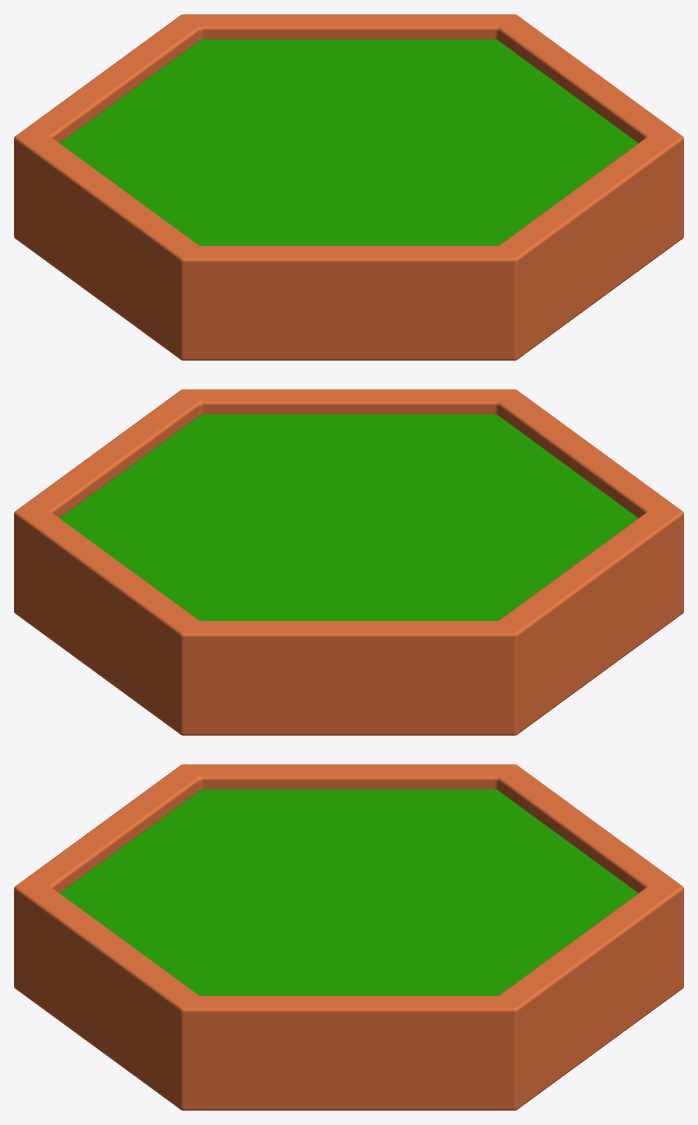
File: Blank.fbx
The picture shows the model from 3 angles, top to bottom: view 1: azimuth 30°, elevation 25°; view 2: azimuth 150°, elevation 25°; view 3: azimuth 270°, elevation 25°; orthographic projection.
Parts seen in each view (by area): view 1: Circle; view 2: Circle; view 3: Circle.
Part boxes in pixels (x1,y1,x2,y2): Circle: [14, 14, 683, 360]; Circle: [14, 389, 683, 735]; Circle: [14, 764, 683, 1110].
Size of the model in its own units: 173 by 33.72 by 200.
